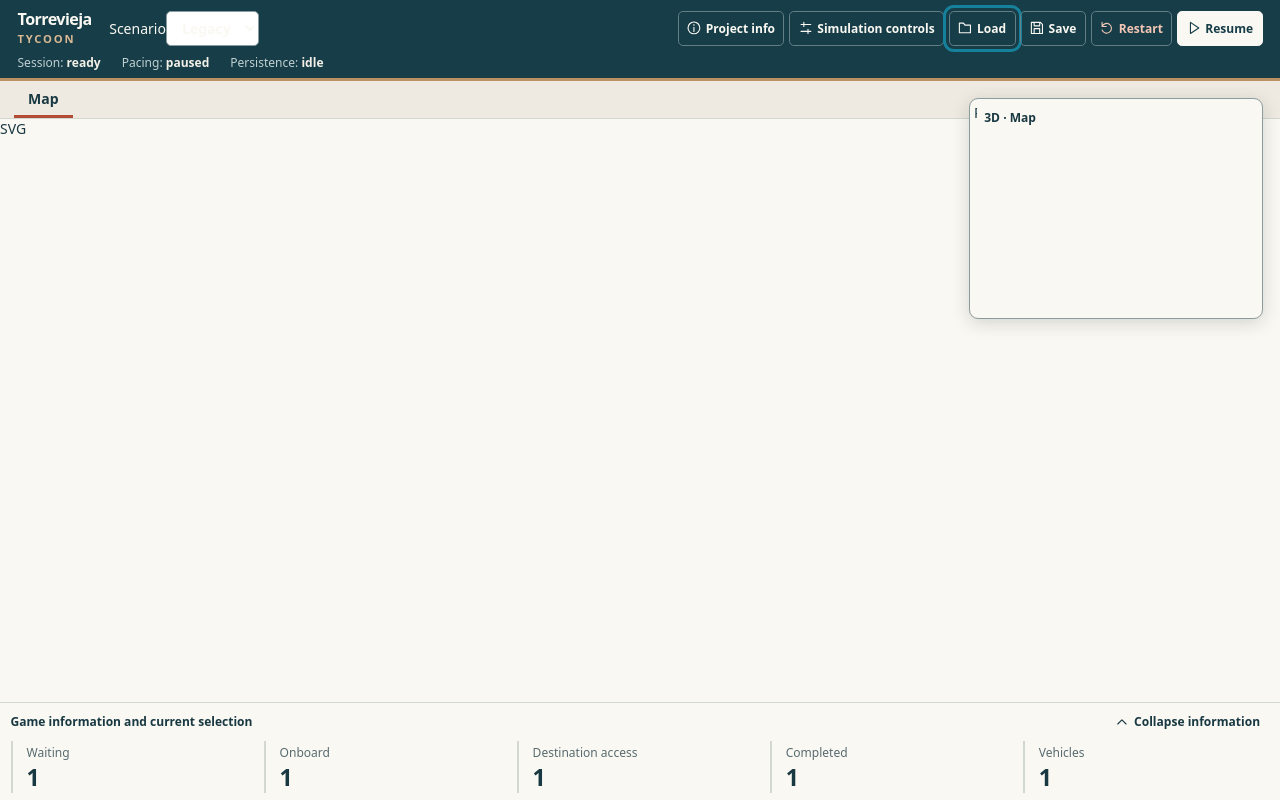
Scenario: opens Load accessibly, closes with Escape, and returns focus
The width and height of the screenshot is (1280, 800).
Click the button "Load": (982, 28) 949,11 -> 1016,46
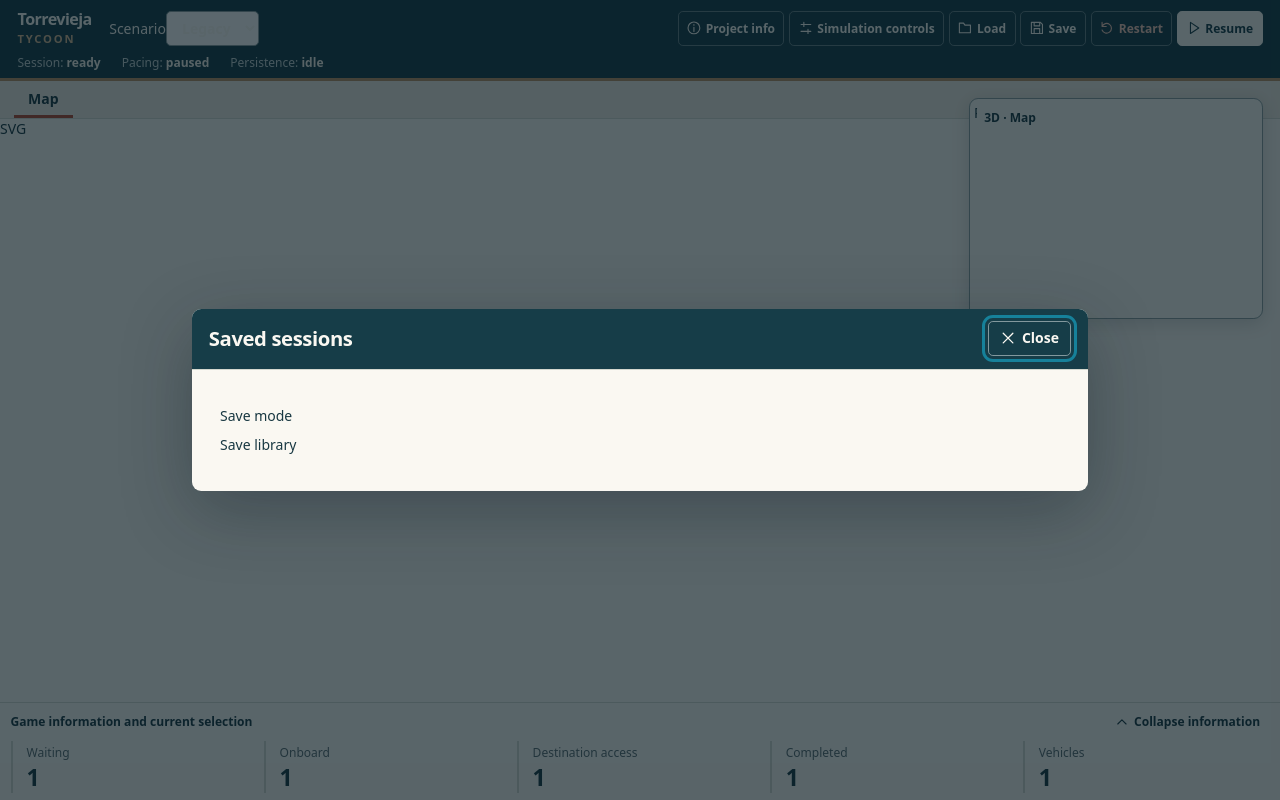
expect the dialog "Saved sessions" shows "Save library": met, box 220,435 -> 296,454
Press Escape
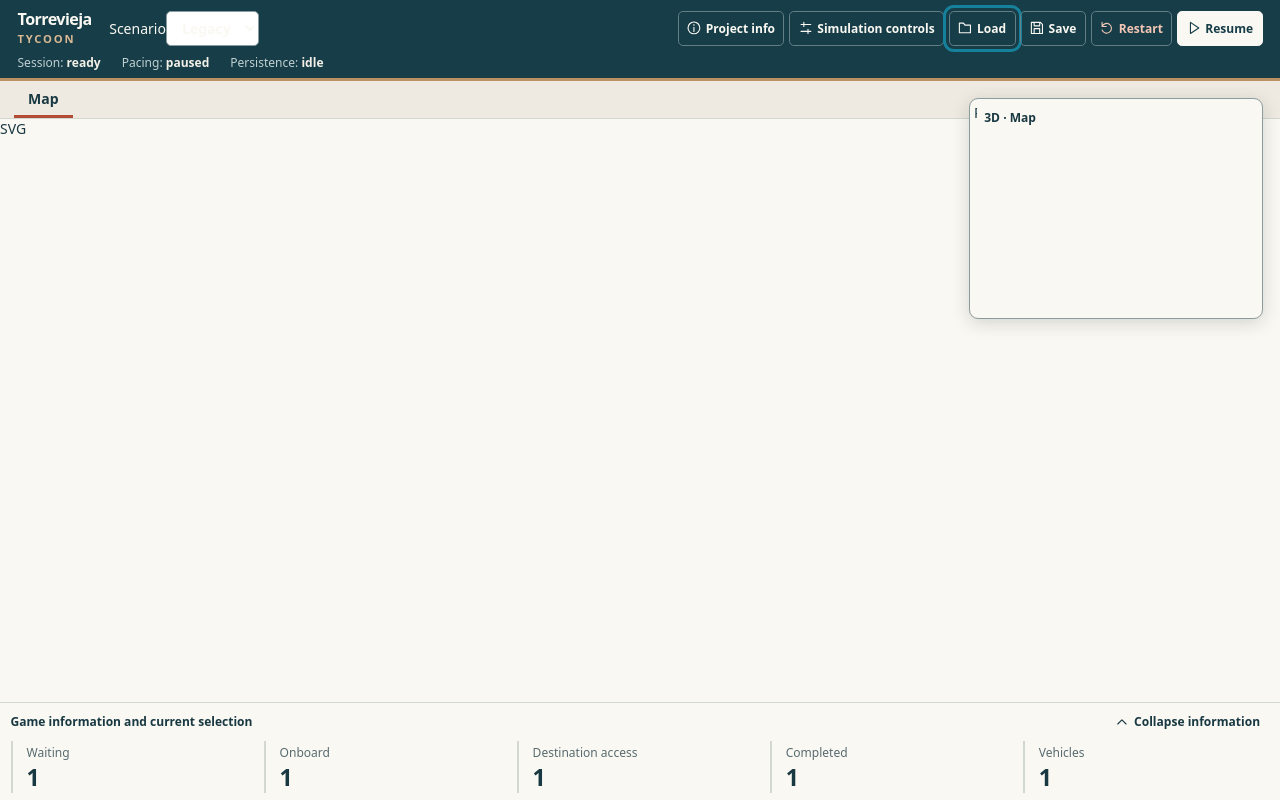
expect the heading "Saved sessions" is gone: met
